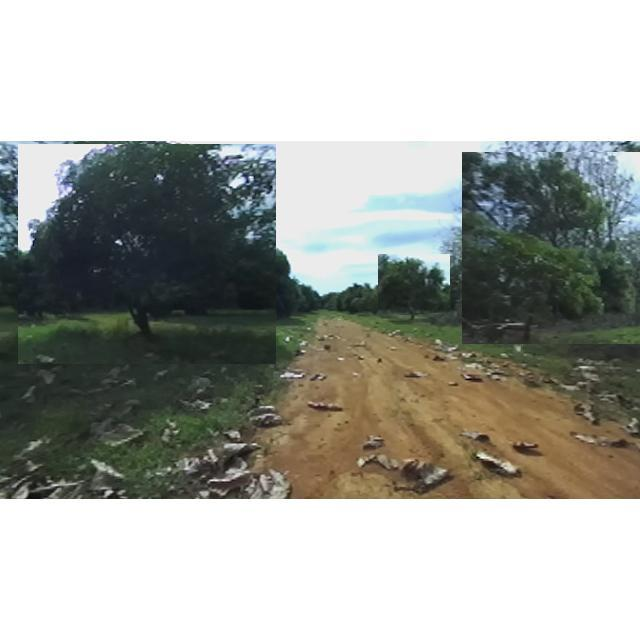direk: (18, 144, 276, 364), (462, 152, 640, 344), (209, 224, 303, 322), (378, 254, 450, 314), (348, 278, 392, 314)
